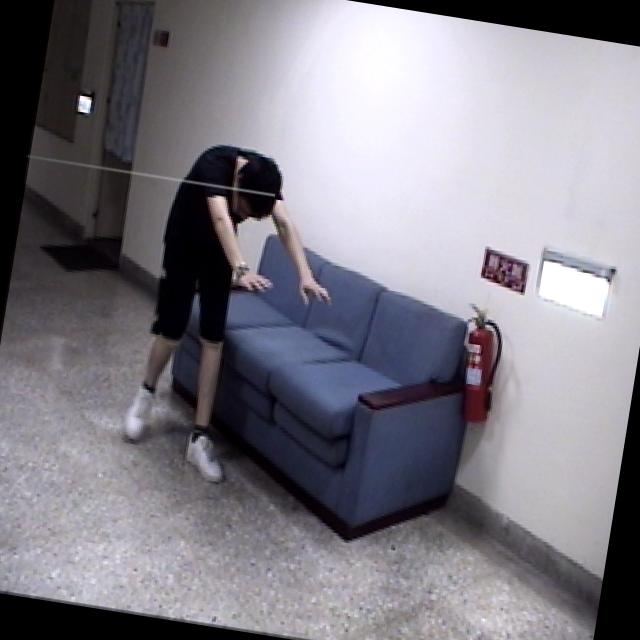bend: (105, 121, 362, 510)
